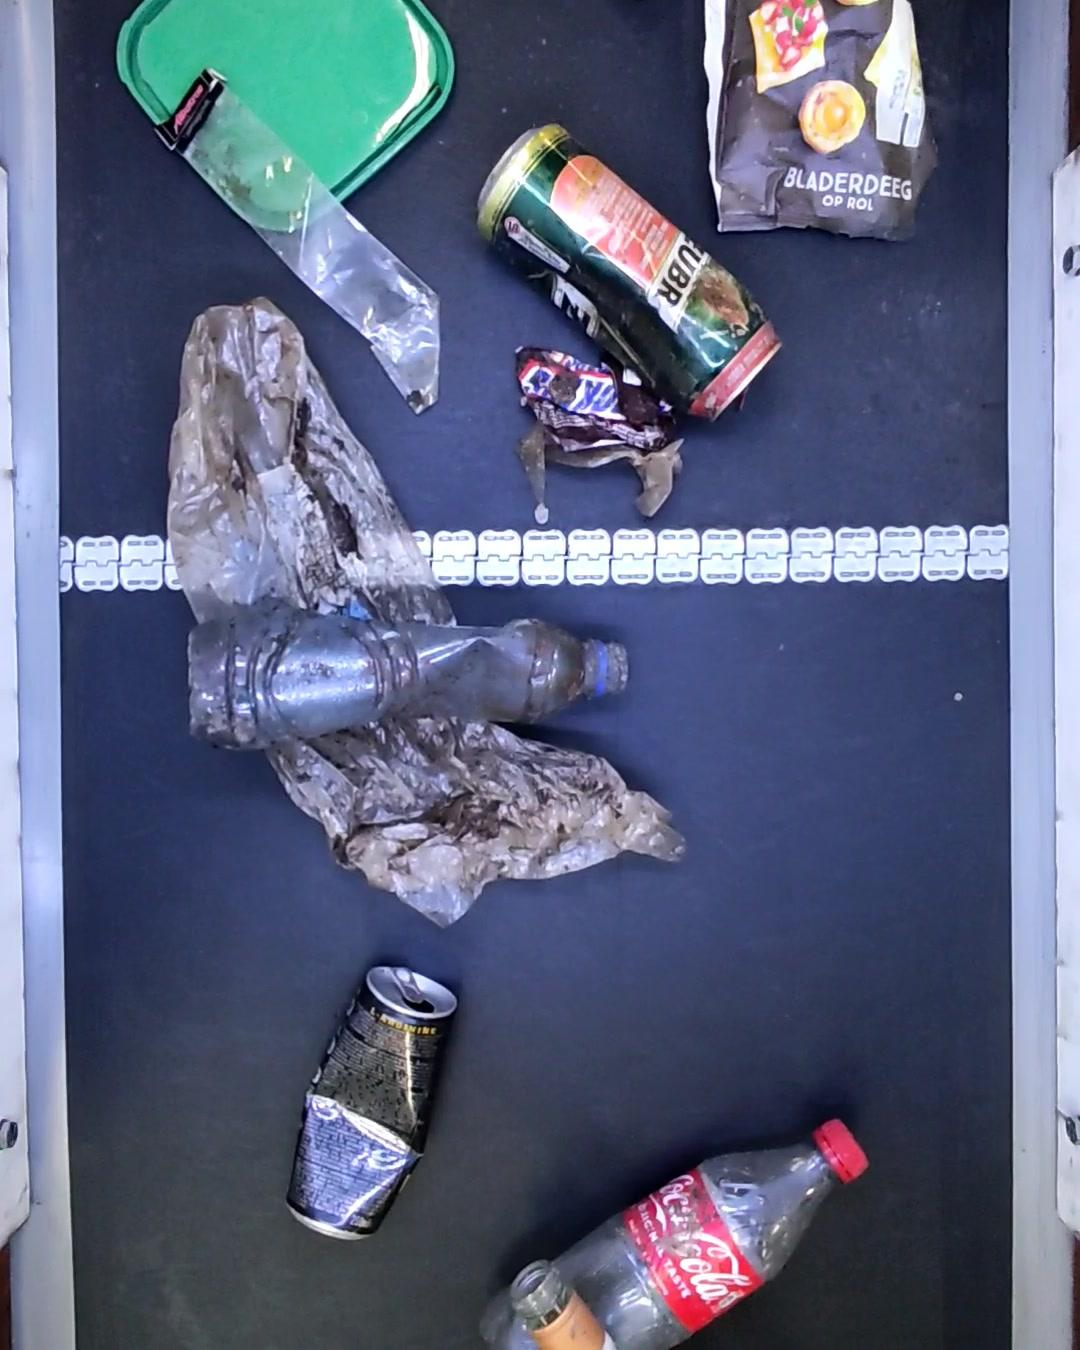Drankblikjes: (473, 125, 779, 423), (285, 959, 458, 1244)
Drankflessen - 1-2 liter: (488, 1103, 873, 1350), (184, 616, 633, 746)
Plastic folies of stukken daarvan 2.5- 50 cm: (168, 293, 687, 922), (515, 430, 687, 520)
Snoep snack en chips verpakkingen: (156, 68, 442, 412), (700, 0, 942, 237), (509, 344, 672, 449)
